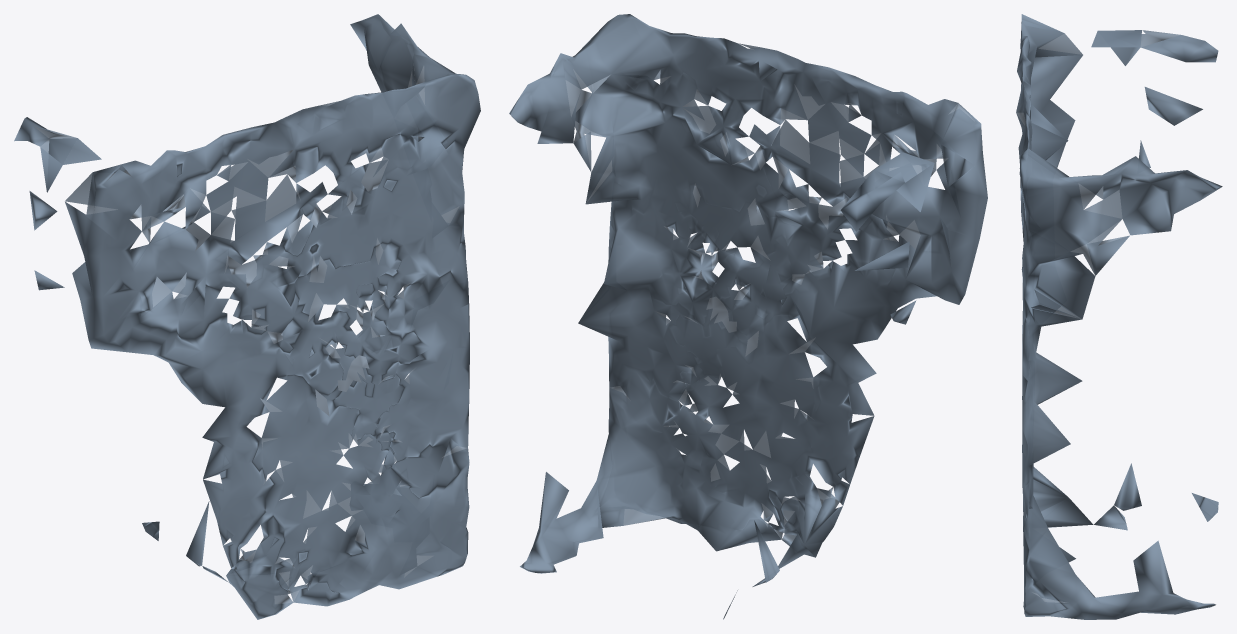
The model's file is table_0218_recon.obj.
The picture shows the model from 3 angles, left to right: view 1: azimuth 30°, elevation 25°; view 2: azimuth 150°, elevation 25°; view 3: azimuth 270°, elevation 25°; orthographic projection. The views are drawn at different scales.
Bounding box in the file's own units: 1.15 × 1.4 × 0.5621.
